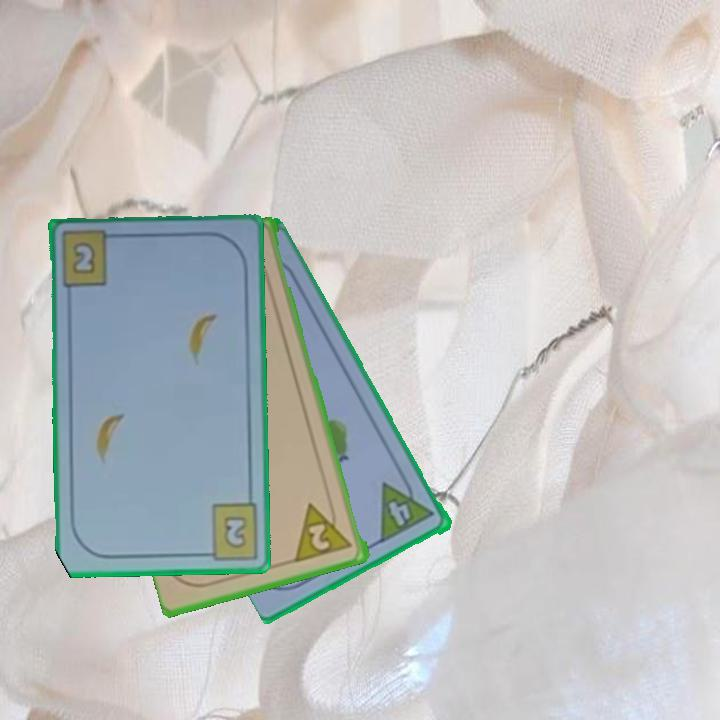2b: (197, 499, 262, 561), (69, 238, 98, 277)
2p: (292, 496, 356, 565)
4p: (376, 470, 438, 546)
